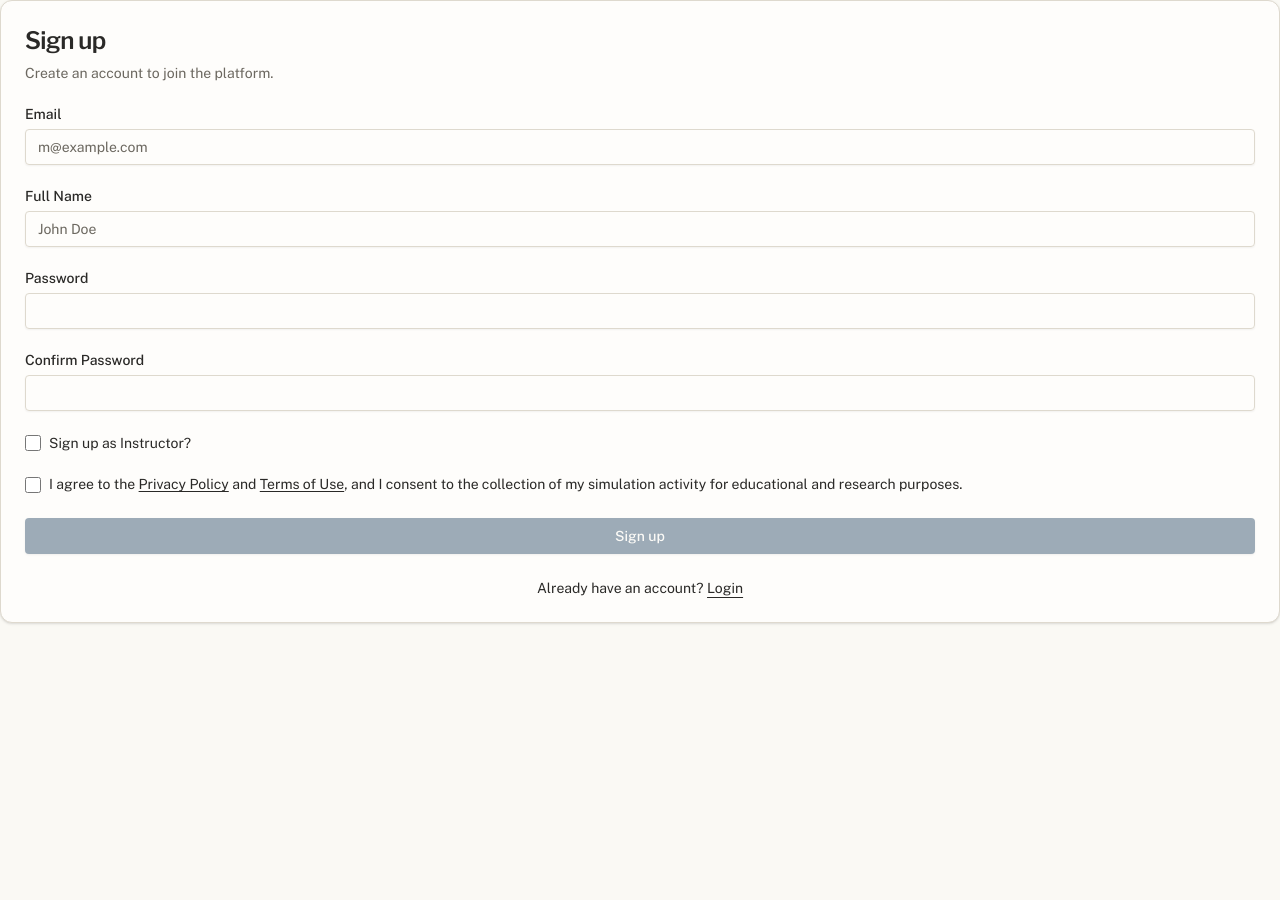
Test: SignUpForm Component › requires agreeing to the policies before submitting
The width and height of the screenshot is (1280, 900).
In the field labelled "Full Name": (640, 229) [25, 211, 1255, 247], type "Test User"
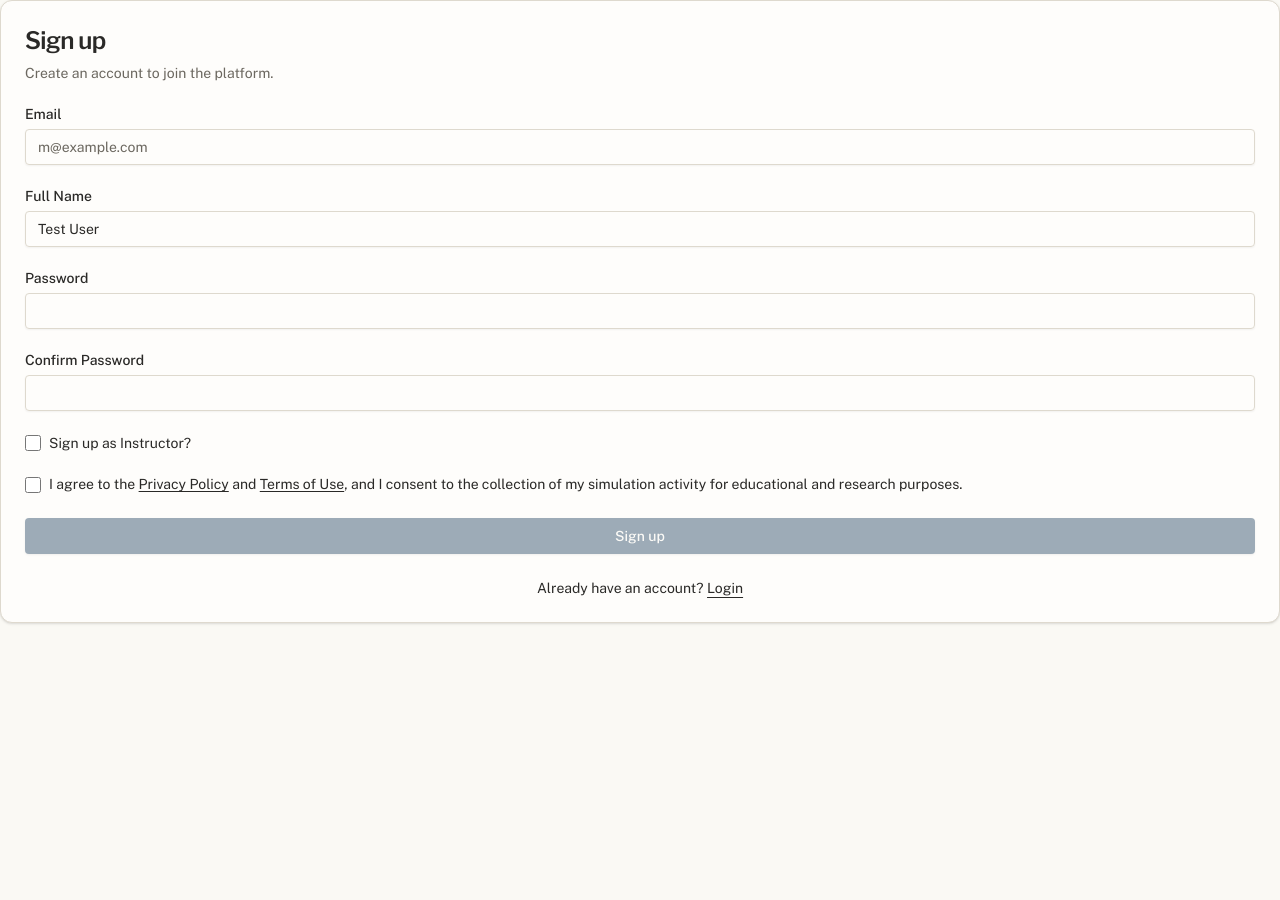
In the field labelled "Email": (640, 147) [25, 129, 1255, 165], type "test@example.com"
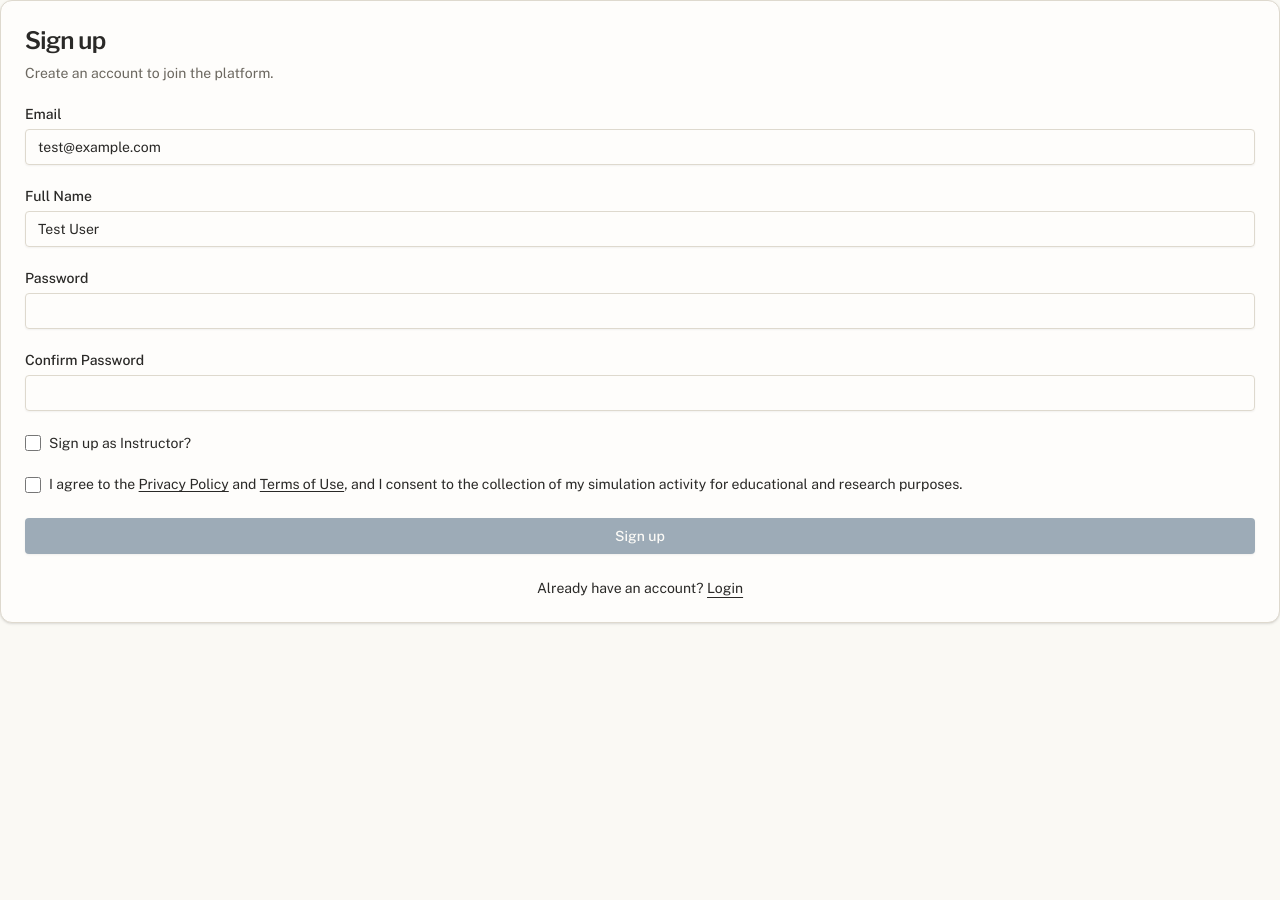
In the password field labelled "Password": (640, 311) [25, 293, 1255, 329], type "password123"
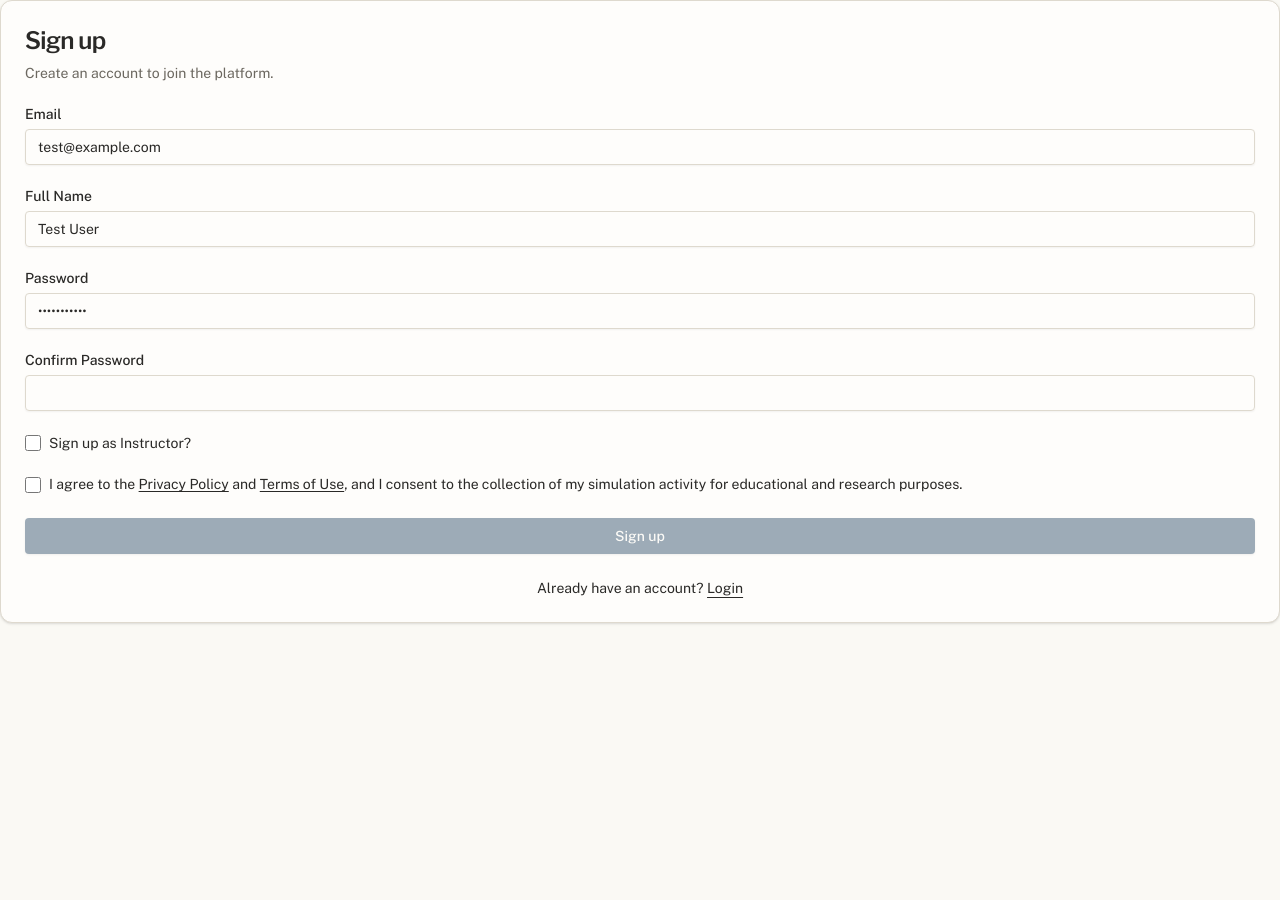
In the password field labelled "Confirm Password": (640, 393) [25, 375, 1255, 411], type "password123"
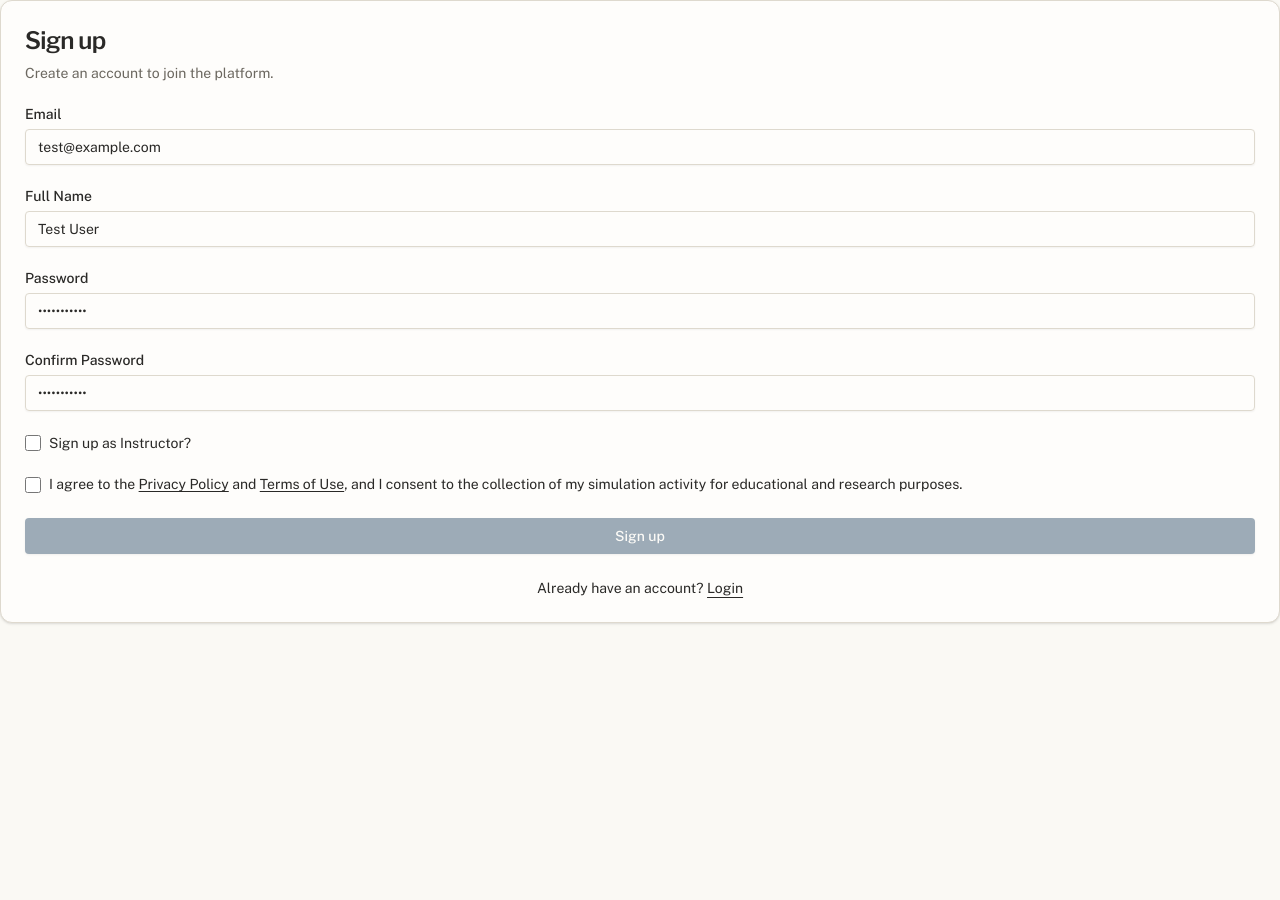
Submit the form "Sign up", box [25, 107, 1255, 598]
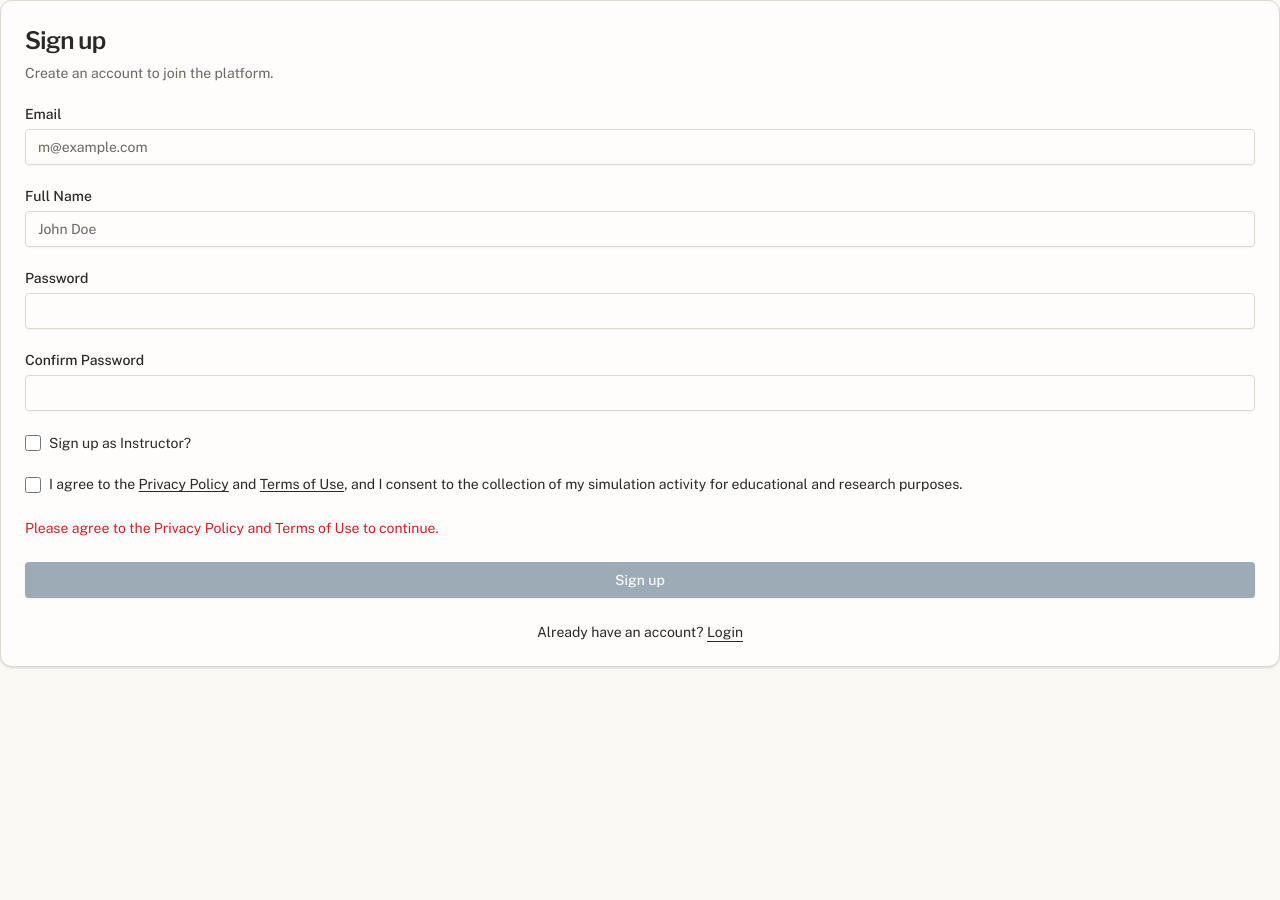
Expected: the text "Please agree to the Privacy Policy and Terms of Use to continue." is shown, [25, 520, 439, 536]
